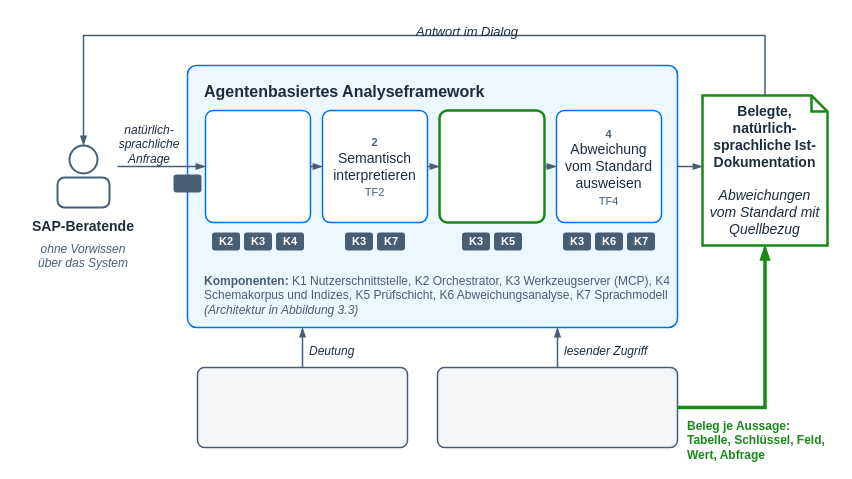
The diagram is 852 pixels wide and 479 high, and some of its shapes have lost their labels. The box of each missing label's shape, as (x1, y1, x2, y2) in pixels:
1 Relevante Konfiguration erschließen TF1: (204, 109, 311, 223)
3 Aussagen an Systemdaten absichern TF3: (438, 109, 545, 223)
Herstellerdokumentation IMG-Dokumentation und Feldhilfe im System: (196, 366, 408, 448)
K1: (173, 174, 201, 192)
SAP-Zielsystem Struktur, Metadaten, Customizing-Werte und Quelltext: (436, 366, 678, 448)
